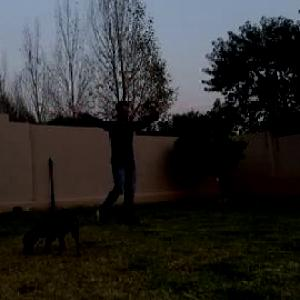takeoff: (34, 98, 158, 238)
